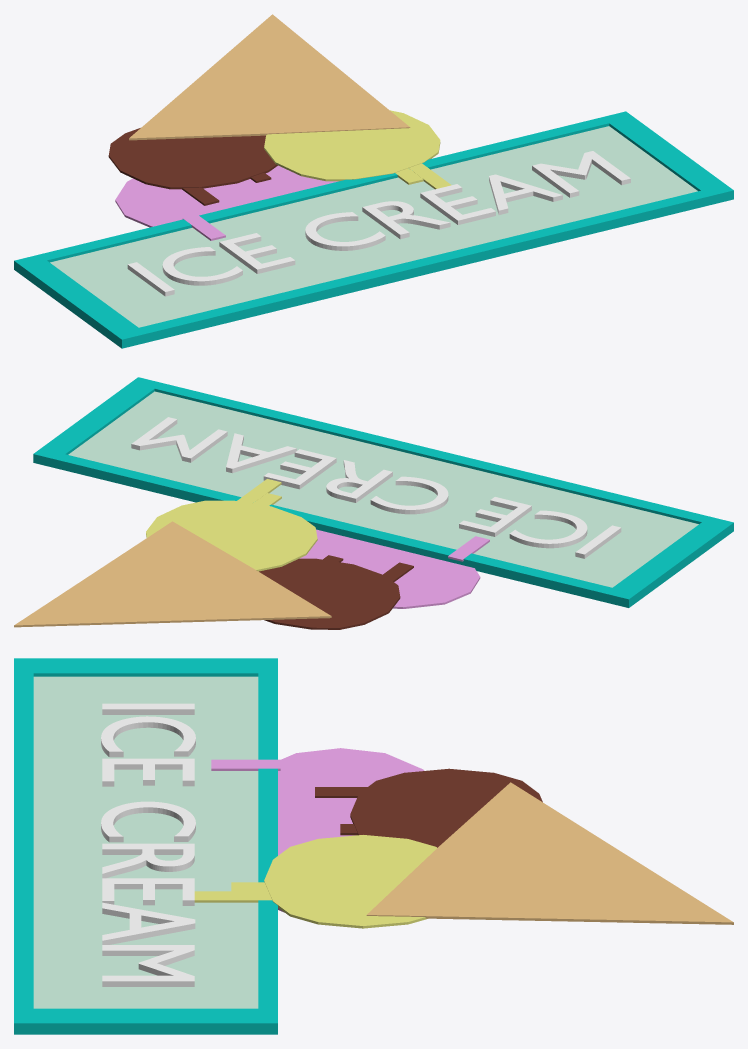
The model's file is IceCreamSign.fbx.
The picture shows the model from 3 angles, top to bottom: view 1: azimuth 30°, elevation 25°; view 2: azimuth 150°, elevation 25°; view 3: azimuth 270°, elevation 25°; orthographic projection. The views are drawn at different scales.
Visible parts, largest first — view 1: Plane, Plane.001, Plane.003, Text, Plane.008, Plane.004, Plane.002; view 2: Plane, Plane.001, Plane.003, Text, Plane.008, Plane.004, Plane.002, Plane.005, Plane.006; view 3: Plane, Plane.003, Plane.001, Text, Plane.008, Plane.004, Plane.002, Plane.006, Plane.005.
Part boxes in pixels (bbox=[...]): Plane: bbox=[50, 126, 697, 327]; Plane.001: bbox=[14, 111, 733, 348]; Plane.003: bbox=[129, 14, 410, 140]; Text: bbox=[127, 151, 630, 296]; Plane.008: bbox=[264, 110, 440, 181]; Plane.004: bbox=[108, 128, 277, 189]; Plane.002: bbox=[115, 165, 338, 227]; Plane: bbox=[68, 391, 698, 587]; Plane.001: bbox=[33, 377, 733, 607]; Plane.003: bbox=[14, 521, 331, 627]; Text: bbox=[131, 417, 621, 558]; Plane.008: bbox=[146, 500, 317, 571]; Plane.004: bbox=[259, 558, 400, 629]; Plane.002: bbox=[299, 529, 480, 608]; Plane.005: bbox=[448, 536, 489, 561]; Plane.006: bbox=[237, 479, 281, 503]; Plane: bbox=[33, 676, 258, 1008]; Plane.003: bbox=[366, 782, 733, 924]; Plane.001: bbox=[14, 658, 277, 1034]; Text: bbox=[101, 703, 195, 986]; Plane.008: bbox=[264, 835, 436, 928]; Plane.004: bbox=[350, 768, 542, 847]; Plane.002: bbox=[278, 748, 424, 912]; Plane.006: bbox=[194, 891, 271, 902]; Plane.005: bbox=[211, 759, 280, 770].
Bounding box in the file's own units: 637 × 10.75 × 531.
